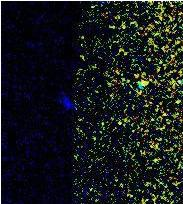star: (127, 64, 157, 94)
